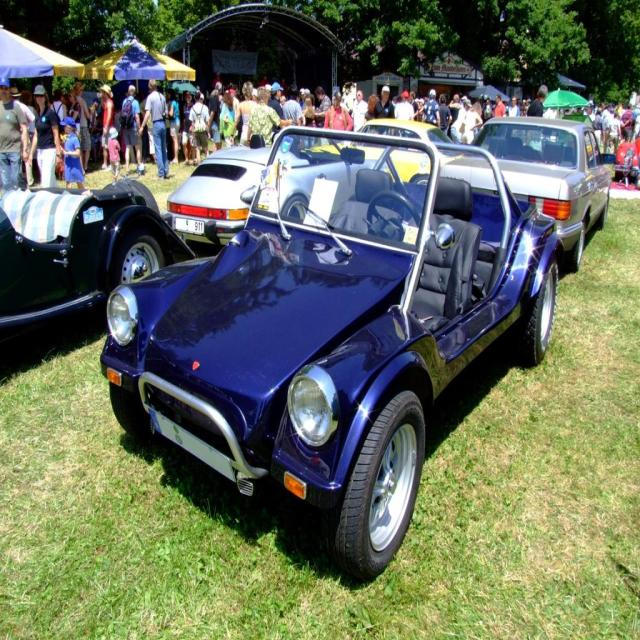car: (91, 121, 573, 629)
